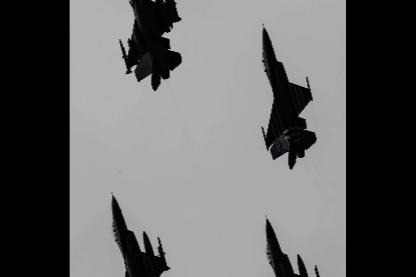F14: (260, 21, 316, 170), (119, 0, 183, 92), (111, 190, 173, 276), (262, 213, 327, 276)
